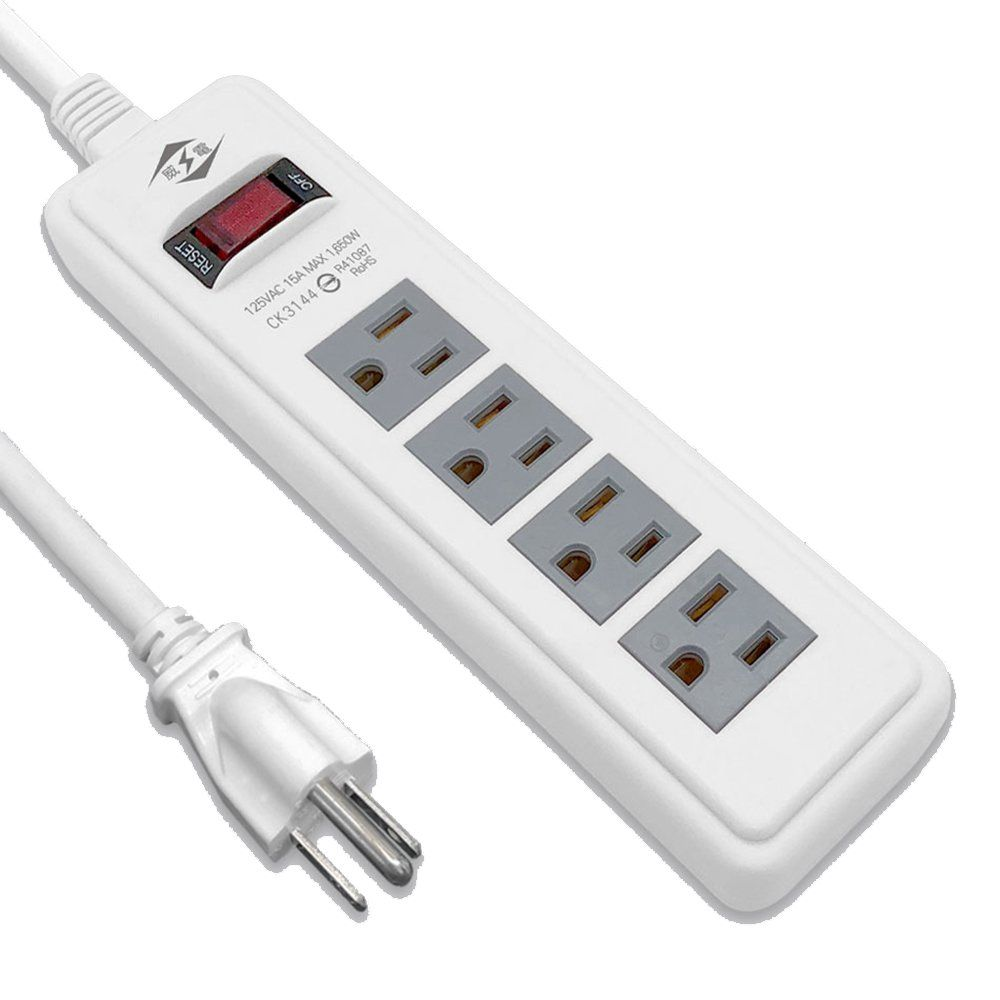socket: (36, 73, 953, 928)
